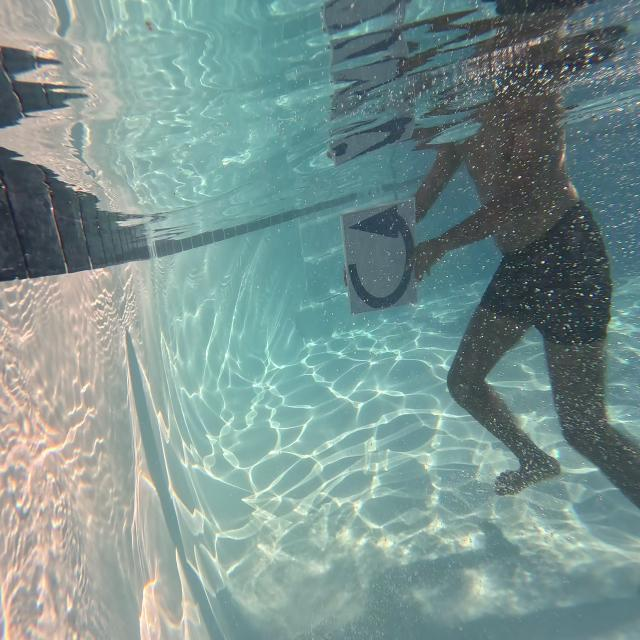blue_side: (335, 204, 426, 322)
